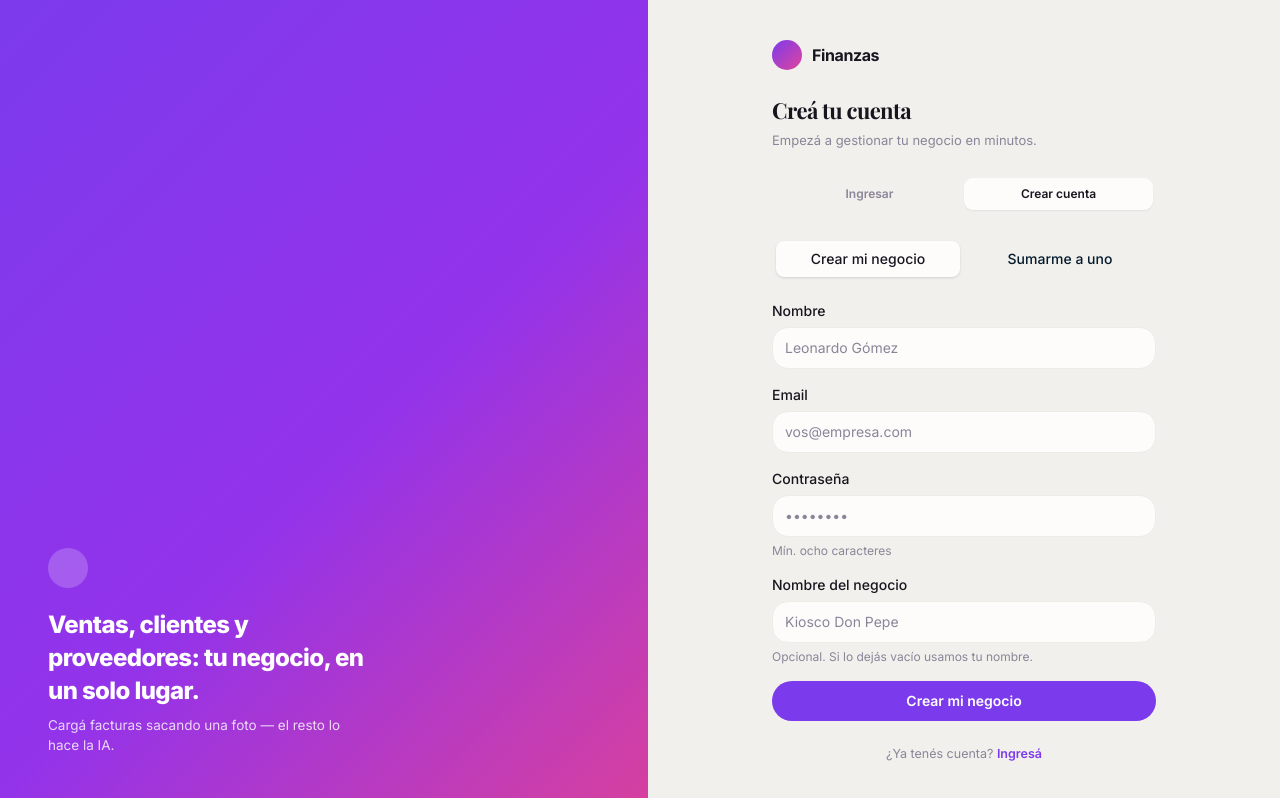
RegisterPage › renders 422 backend validation error and does not create a session
In the field labelled "Email": {"x": 964, "y": 432} [772,410,1156,452], type "notanemail"
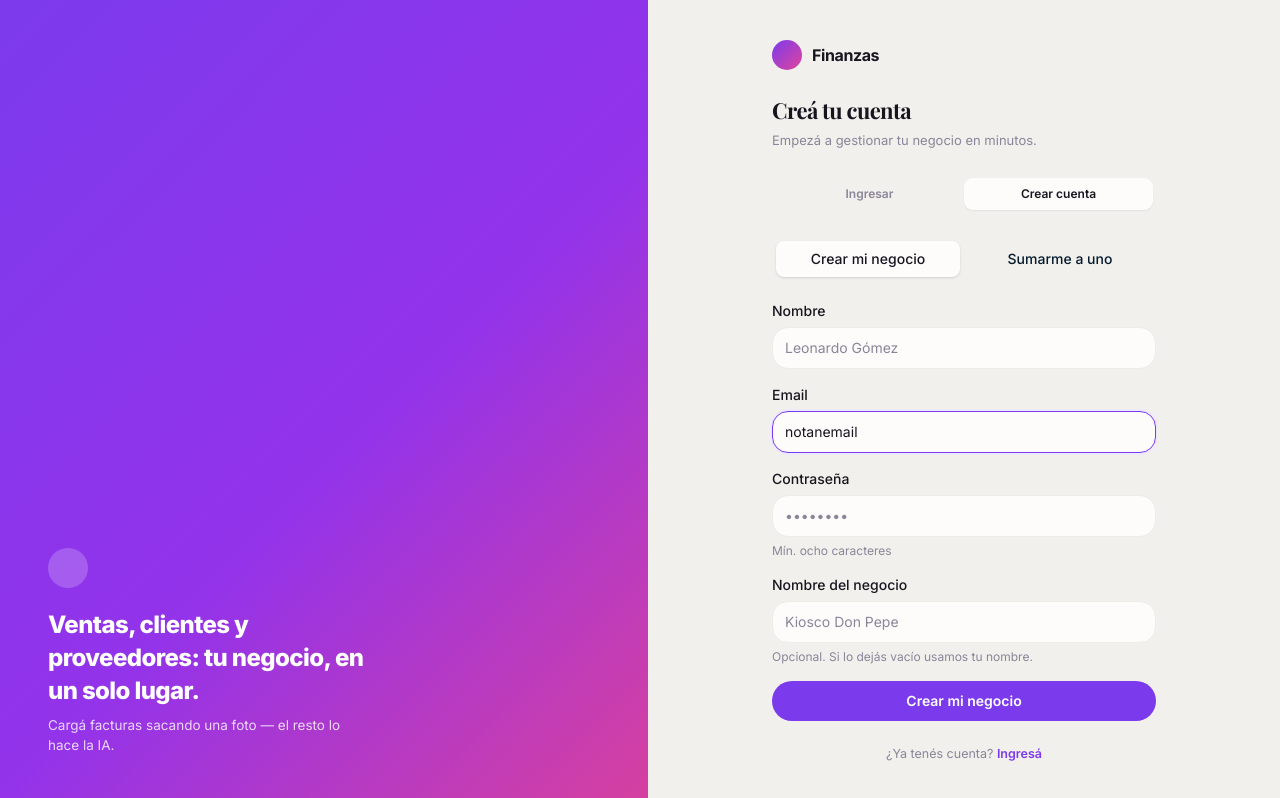
In the field labelled "Nombre": {"x": 964, "y": 348} [772,326,1156,368], type "Test"
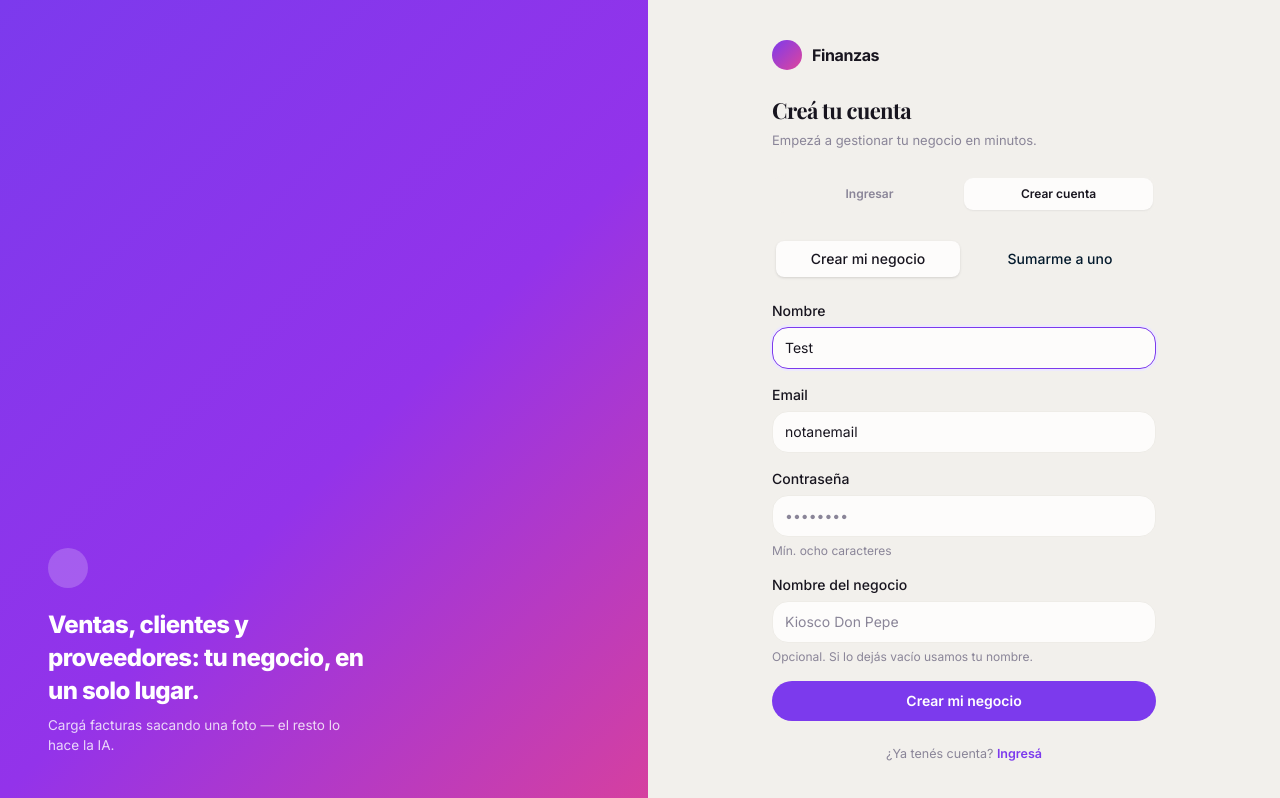
In the password field labelled "Contraseña": {"x": 964, "y": 516} [772,494,1156,536], type "password123"
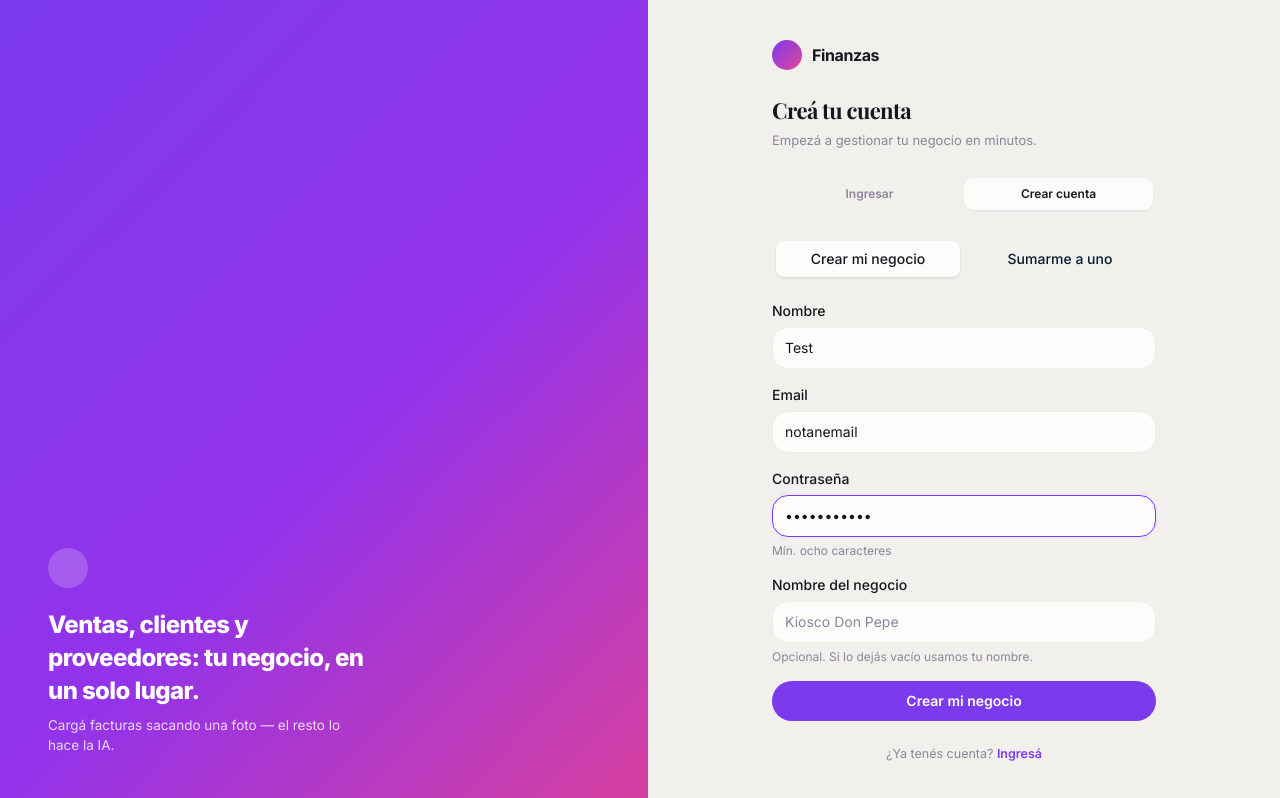
Click the button "Crear mi negocio": {"x": 964, "y": 700} [772,680,1156,720]
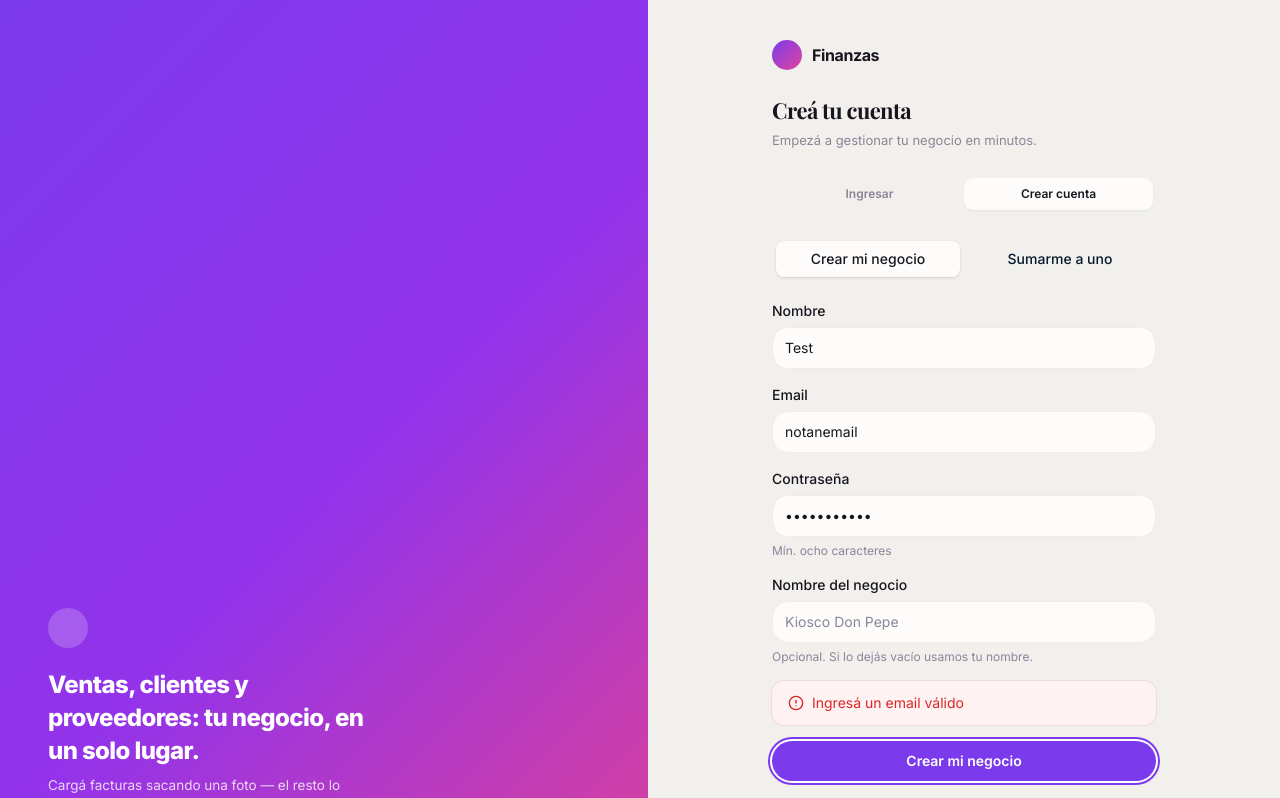
Now the message "Ingresá un email válido" is shown, box [772,680,1156,724]
